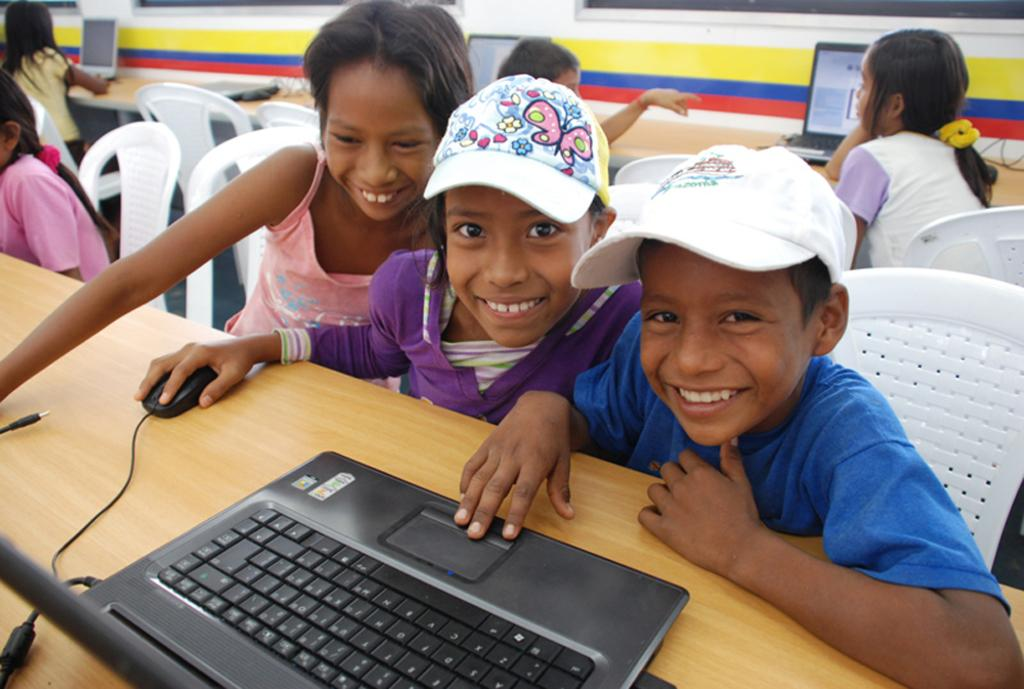Hat: (568, 135, 868, 295), (410, 71, 620, 246)
